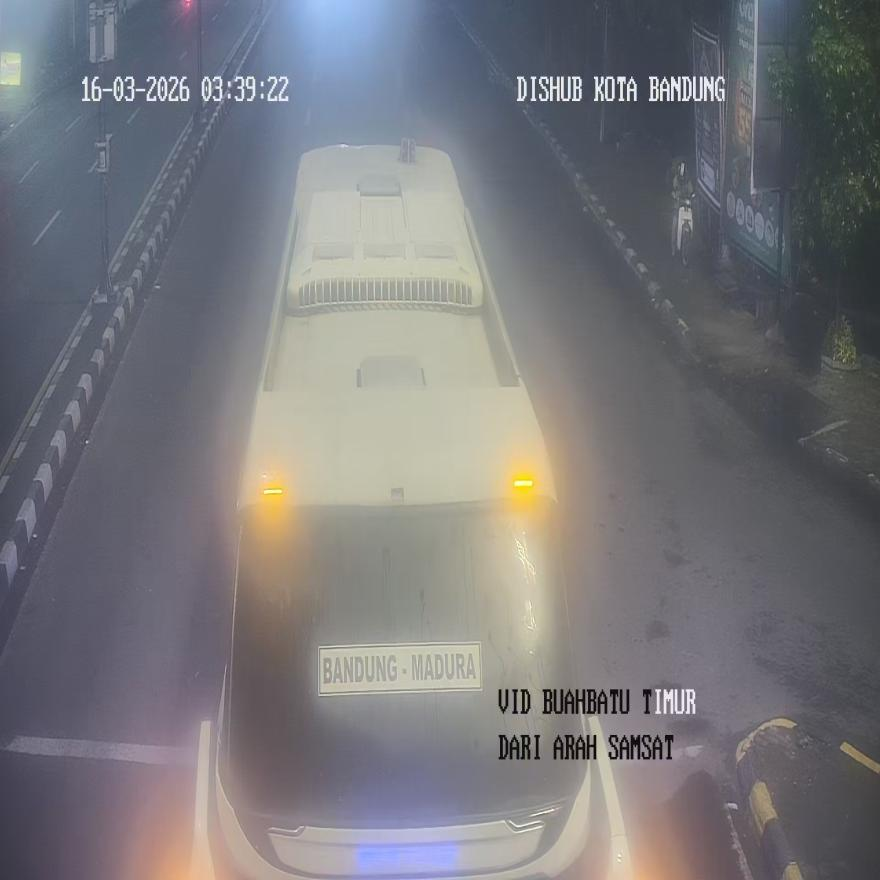Motor: (672, 195, 693, 266)
bus: (189, 141, 636, 876)
